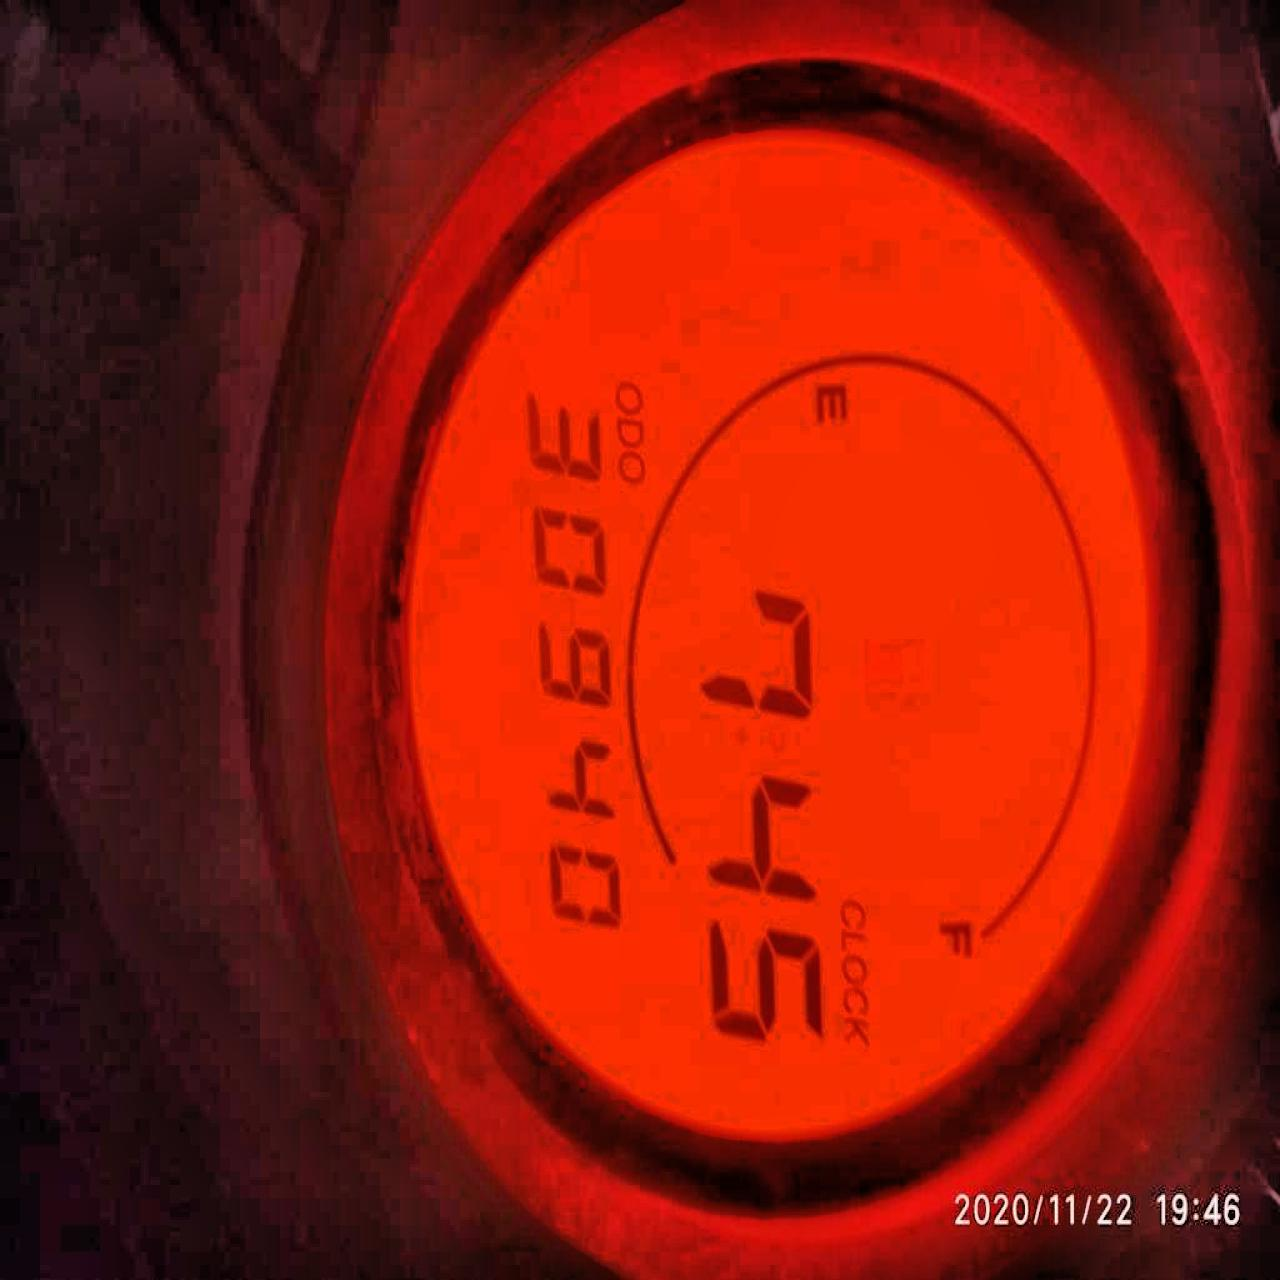0: (531, 504, 606, 594), (546, 843, 620, 926)
3: (524, 395, 600, 482)
4: (704, 772, 815, 906), (546, 736, 614, 817)
5: (702, 922, 826, 1047)
7: (692, 579, 818, 722)
9: (536, 622, 610, 704)
X: (811, 380, 850, 423), (939, 919, 975, 955), (617, 449, 644, 483), (615, 380, 641, 413), (840, 1015, 869, 1042), (617, 416, 642, 445), (842, 955, 866, 983), (842, 986, 866, 1014), (840, 899, 866, 925), (839, 928, 865, 951)
odometer: (393, 117, 1164, 1150)
